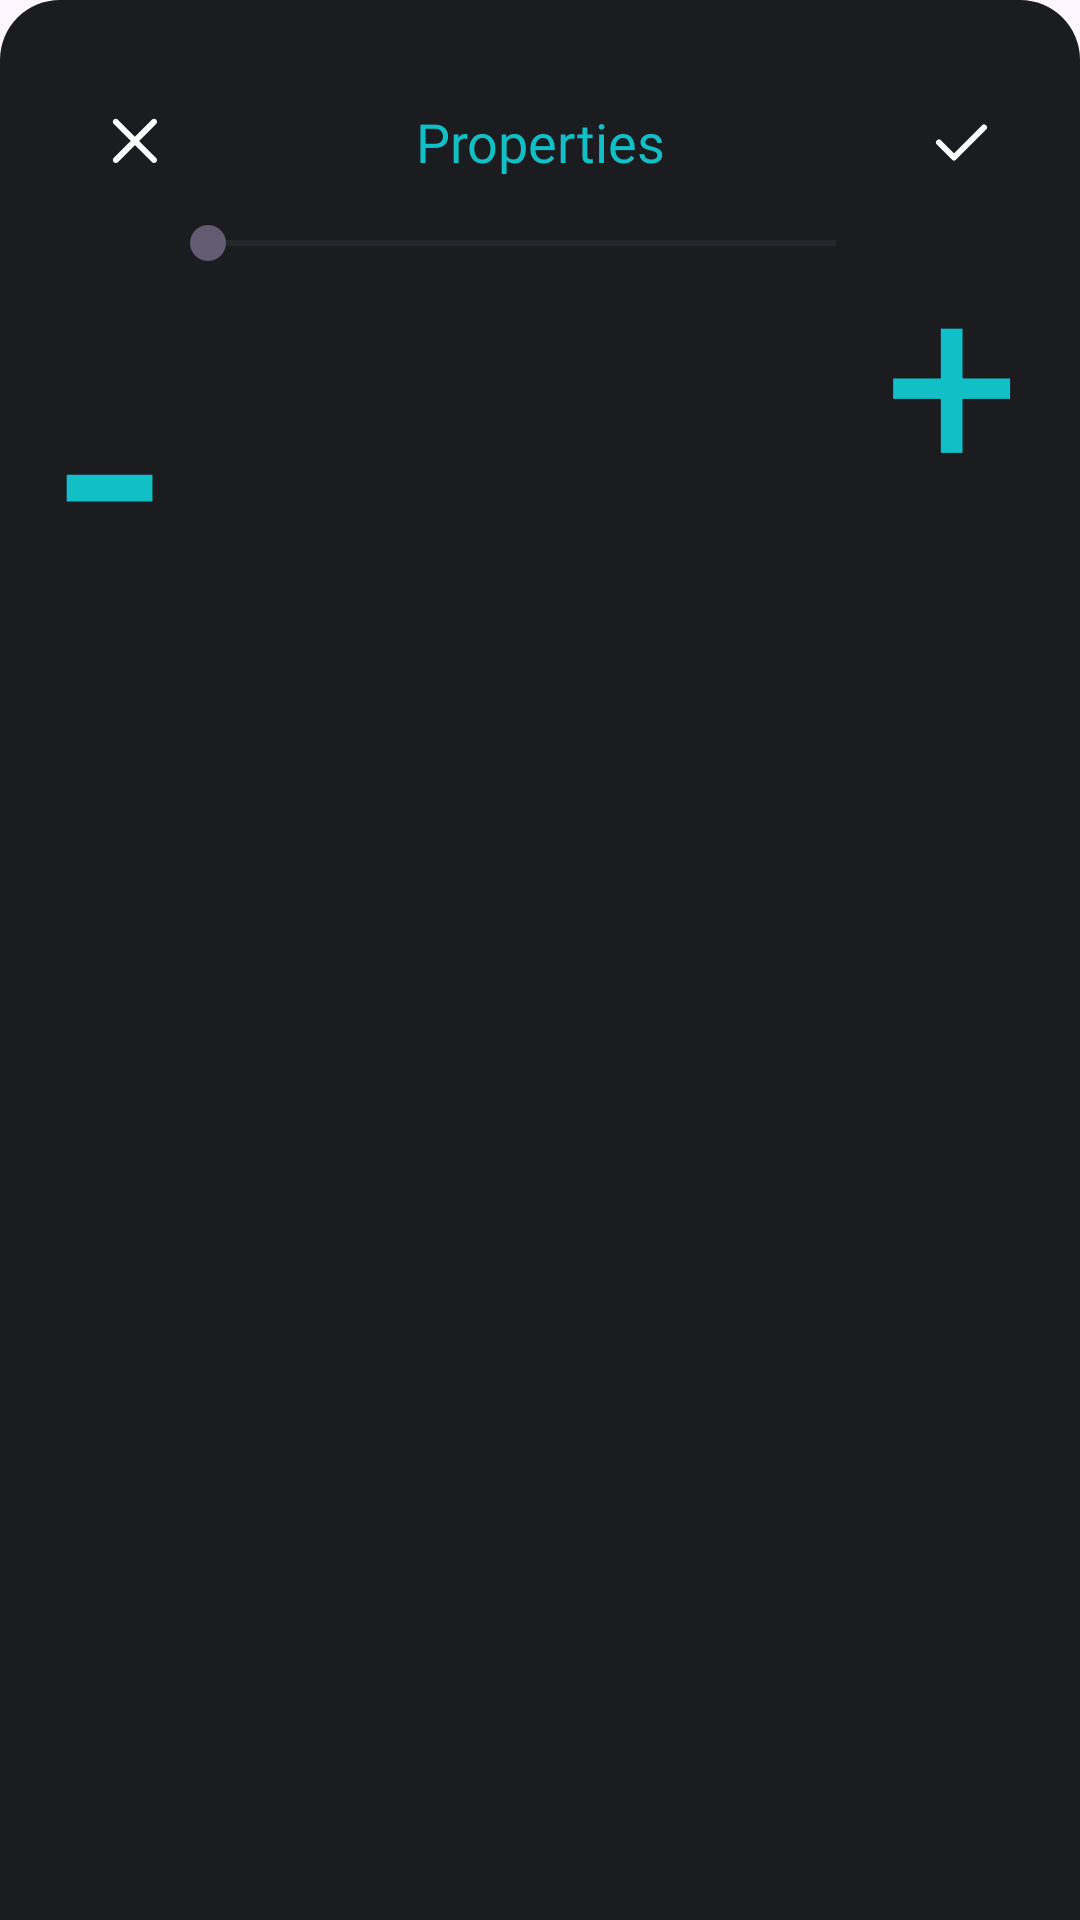

Screen size 1080px x 1920px. Icon name, then its box in pixels as [x1,y1,x2,y2]:
cancel: [112,118,157,163]
tabler check: [935,124,988,161]
